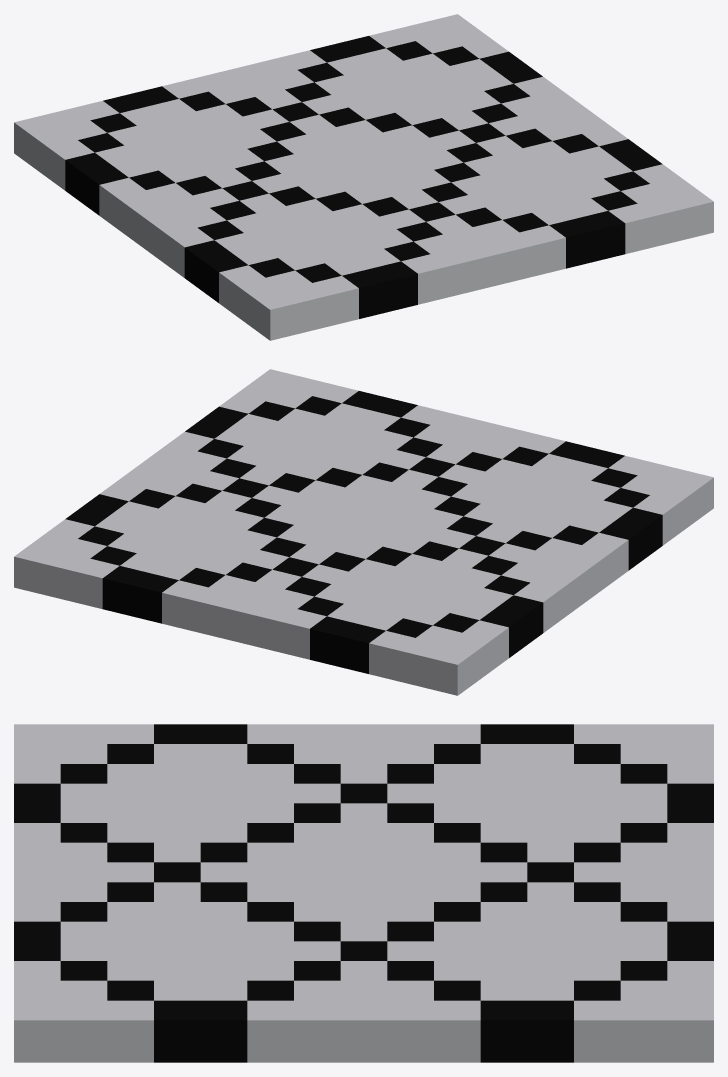
Rendered from dungeon_d_b_ground_d_a.obj.
3 views of the same model, one above another, from view 1: azimuth 30°, elevation 25°; view 2: azimuth 150°, elevation 25°; view 3: azimuth 270°, elevation 25° (orthographic). The views are drawn at different scales.
Bounding box in the file's own units: 1.5 × 0.1 × 1.5.
Materials: 1 (1 with a texture image).
